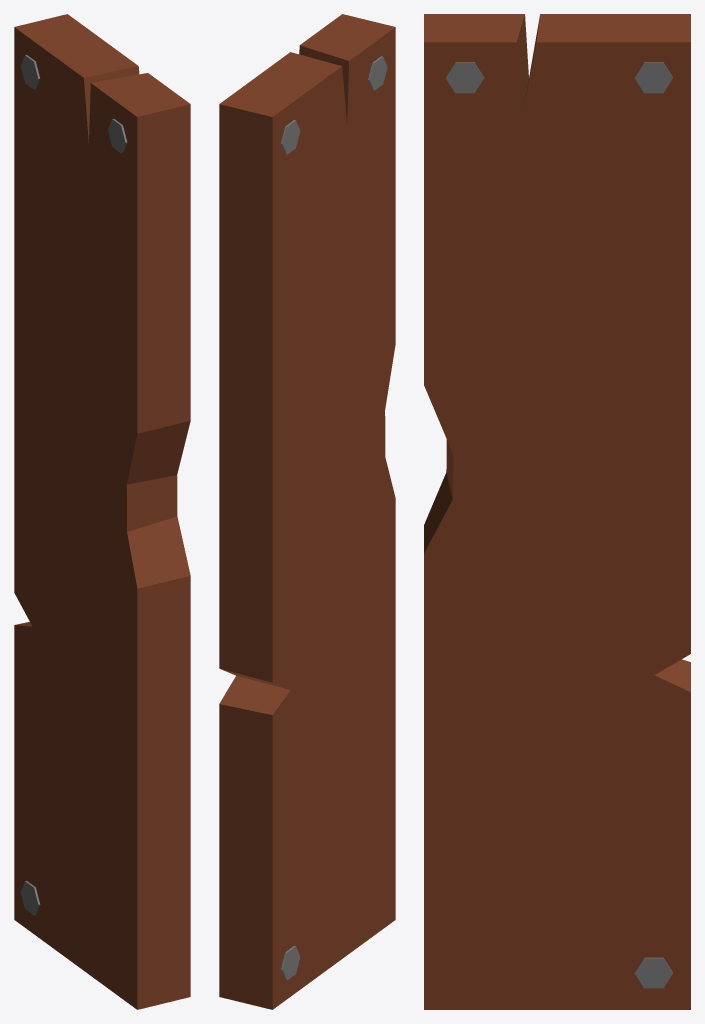
The model's file is DamagedPlank.glb.
3 views of the same model, side by side, from view 1: azimuth 30°, elevation 25°; view 2: azimuth 150°, elevation 25°; view 3: azimuth 270°, elevation 25° (orthographic). The views are drawn at different scales.
Parts seen in each view (by area): view 1: Cube, Bolt, Bolt.002, Bolt.001; view 2: Cube, Bolt.001, Bolt.002, Bolt; view 3: Cube, Bolt, Bolt.001, Bolt.002.
Boxes of the visible parts, x1,y1,x2,y2 form: Cube: (14, 14, 190, 1009); Bolt: (20, 55, 40, 89); Bolt.002: (20, 881, 40, 915); Bolt.001: (108, 119, 127, 153); Cube: (219, 14, 395, 1009); Bolt.001: (368, 56, 387, 90); Bolt.002: (281, 946, 300, 980); Bolt: (281, 120, 300, 154); Cube: (424, 14, 690, 1009); Bolt: (634, 62, 672, 93); Bolt.001: (445, 62, 484, 93); Bolt.002: (634, 957, 672, 988).
Size of the model in its own units: 0.5291 by 8 by 2.
